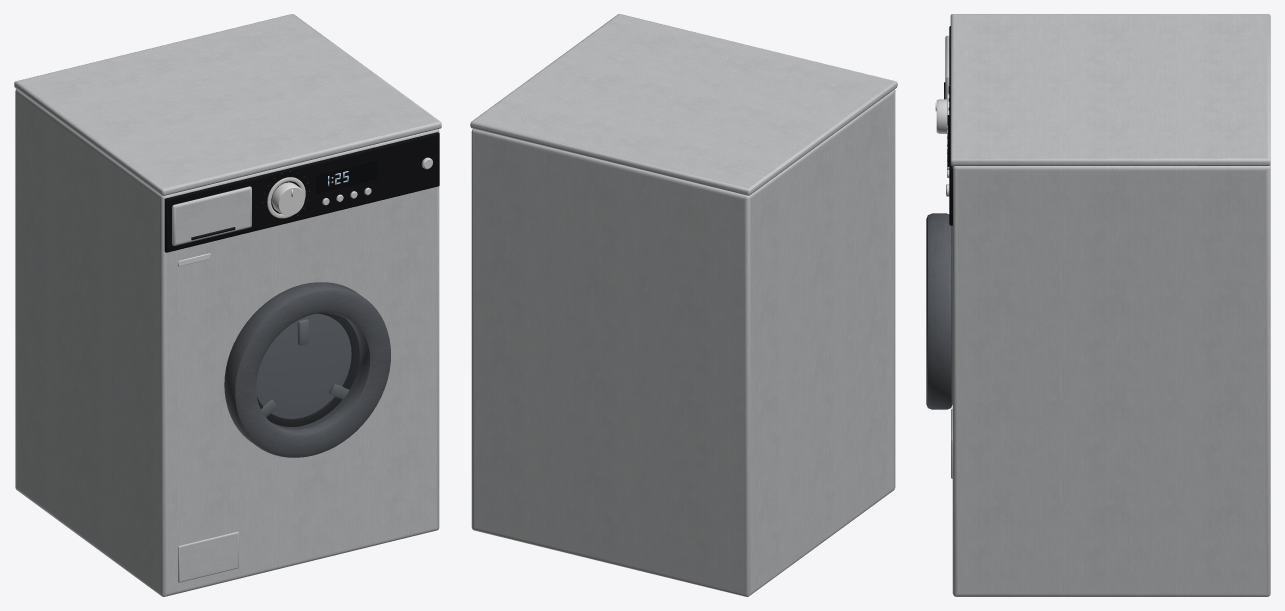
Rendered from lavadora_inox.glb.
3 views of the same model, side by side, from view 1: azimuth 30°, elevation 25°; view 2: azimuth 150°, elevation 25°; view 3: azimuth 270°, elevation 25° (orthographic). The views are drawn at different scales.
Parts seen in each view (by area): view 1: lavadora_inox; view 2: lavadora_inox; view 3: lavadora_inox.
Boxes of the visible parts, x1,y1,x2,y2 form: lavadora_inox: [14, 14, 441, 596]; lavadora_inox: [470, 14, 897, 596]; lavadora_inox: [926, 14, 1270, 596].
Bounding box in the file's own units: 0.6 × 0.85 × 0.596.
Materials: 9 (2 with a texture image).
